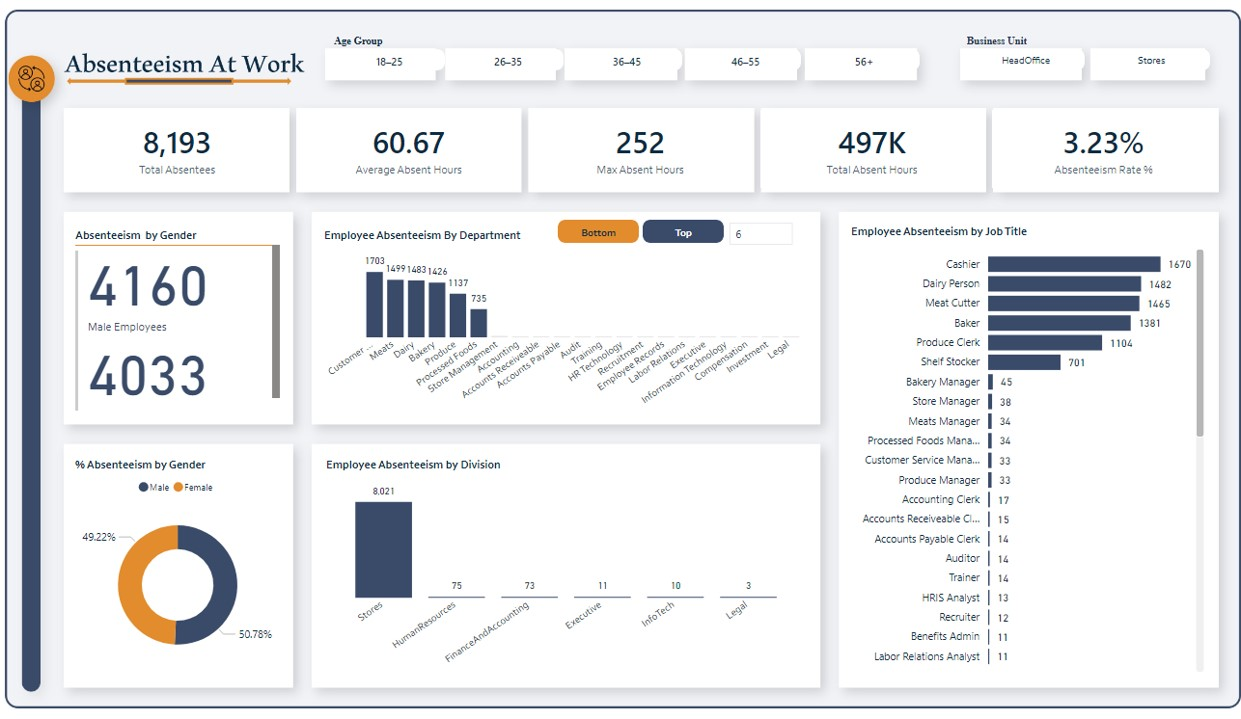

The page's visual inventory and layout, read from the dashboard file:
{"tool":"powerbi","page":{"name":"Page 1","canvas":[1286,726],"ordinal":0},"visuals":[{"type":"cardVisual","fields":{"Data":["KPI Tabs.Total Employees","KPI Tabs.Average Absent Hours","KPI Tabs.Max Absent Hours","KPI Tabs.Total Absent Hours","KPI Tabs.Absenteeism Rate %"]},"box":[68.9,104.4,1195.6,81.1],"z":0},{"type":"clusteredColumnChart","title":"Employee Absenteeism By Department","fields":{"Category":["MFGEmployees4.DepartmentName"],"Y":["Numeric Ranges.Employee Count"]},"box":[325,216.7,521.1,210],"z":0,"group":"g2"},{"type":"group","id":"g1","title":"Group 2","box":[566.1,208.9,255.6,75.6],"z":2000,"group":"g2"},{"type":"multiRowCard","title":"Absenteeism  by Gender","fields":{"Values":["Age Group.Male Employees","Age Group.Female Employees"]},"box":[68.9,216.7,232.2,210],"z":2000},{"type":"group","id":"g2","title":"Group 1","box":[325,208.9,521.1,217.8],"z":3000},{"type":"advancedSlicerVisual","fields":{"Values":["MFGEmployees4.Age Group"]},"box":[336.7,15.6,628.9,57.8],"z":4000},{"type":"advancedSlicerVisual","fields":{"Values":["Top/Bottom.Selection"]},"box":[566.1,208.9,193.7,44.8],"z":5000,"group":"g1"},{"type":"donutChart","title":"% Absenteeism by Gender","fields":{"Category":["MFGEmployees4.Gender"],"Y":["CountNonNull(MFGEmployees4.AbsentHours)"]},"box":[68.9,454.4,232.2,242.2],"z":5000},{"type":"advancedSlicerVisual","fields":{"Values":["MFGEmployees4.BusinessUnit"]},"box":[992.2,15.6,272.2,57.8],"z":6000},{"type":"slicer","fields":{"Values":["Numeric Range.Numeric Range"]},"box":[746.3,216.2,76.3,69],"z":7000,"group":"g1"},{"type":"clusteredColumnChart","title":"Employee Absenteeism by Division","fields":{"Category":["MFGEmployees4.Division"],"Y":["Numeric Ranges.Employee Count"]},"box":[327.8,454.4,518.9,242.2],"z":7000},{"type":"clusteredBarChart","title":"Employee Absenteeism by Job Title","fields":{"Category":["MFGEmployees4.JobTitle"],"Y":["CountNonNull(MFGEmployees4.AbsentHours)"]},"box":[871.1,211.1,385.6,485.6],"z":8000}]}

Visuals, with their boxes in screenshot pixels (x1, y1, x2, y2), scaled from the page's 1286x726 canvas onto the 1241x719 screenshot:
cardVisual - KPI Tabs.Total Employees x KPI Tabs.Average Absent Hours: Rect(66, 103, 1220, 184)
"Employee Absenteeism By Department" clusteredColumnChart: Rect(314, 215, 816, 423)
"Group 2" group: Rect(546, 207, 793, 282)
"Absenteeism  by Gender" multiRowCard: Rect(66, 215, 291, 423)
"Group 1" group: Rect(314, 207, 816, 423)
advancedSlicerVisual - MFGEmployees4.Age Group: Rect(325, 15, 932, 73)
advancedSlicerVisual - Top/Bottom.Selection: Rect(546, 207, 733, 251)
"% Absenteeism by Gender" donutChart: Rect(66, 450, 291, 690)
advancedSlicerVisual - MFGEmployees4.BusinessUnit: Rect(957, 15, 1220, 73)
slicer - Numeric Range.Numeric Range: Rect(720, 214, 794, 282)
"Employee Absenteeism by Division" clusteredColumnChart: Rect(316, 450, 817, 690)
"Employee Absenteeism by Job Title" clusteredBarChart: Rect(841, 209, 1213, 690)
